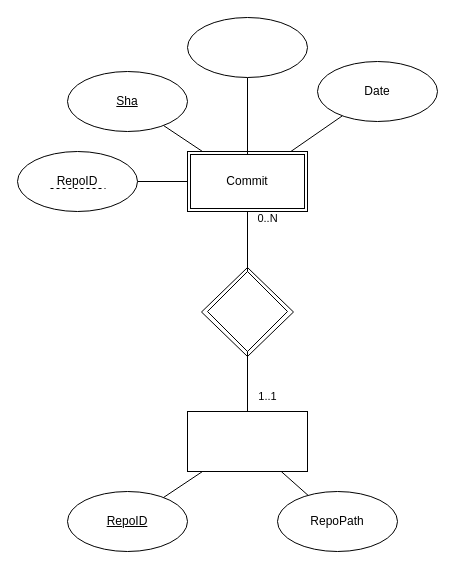
Image size: 455x569. Some labels were removed from this diagram. The centre of each missing label's shape, as x and y in pixels:
"Author" goes at pixel 247 47.
"Has" goes at pixel 247 311.
"Repository" goes at pixel 247 441.
